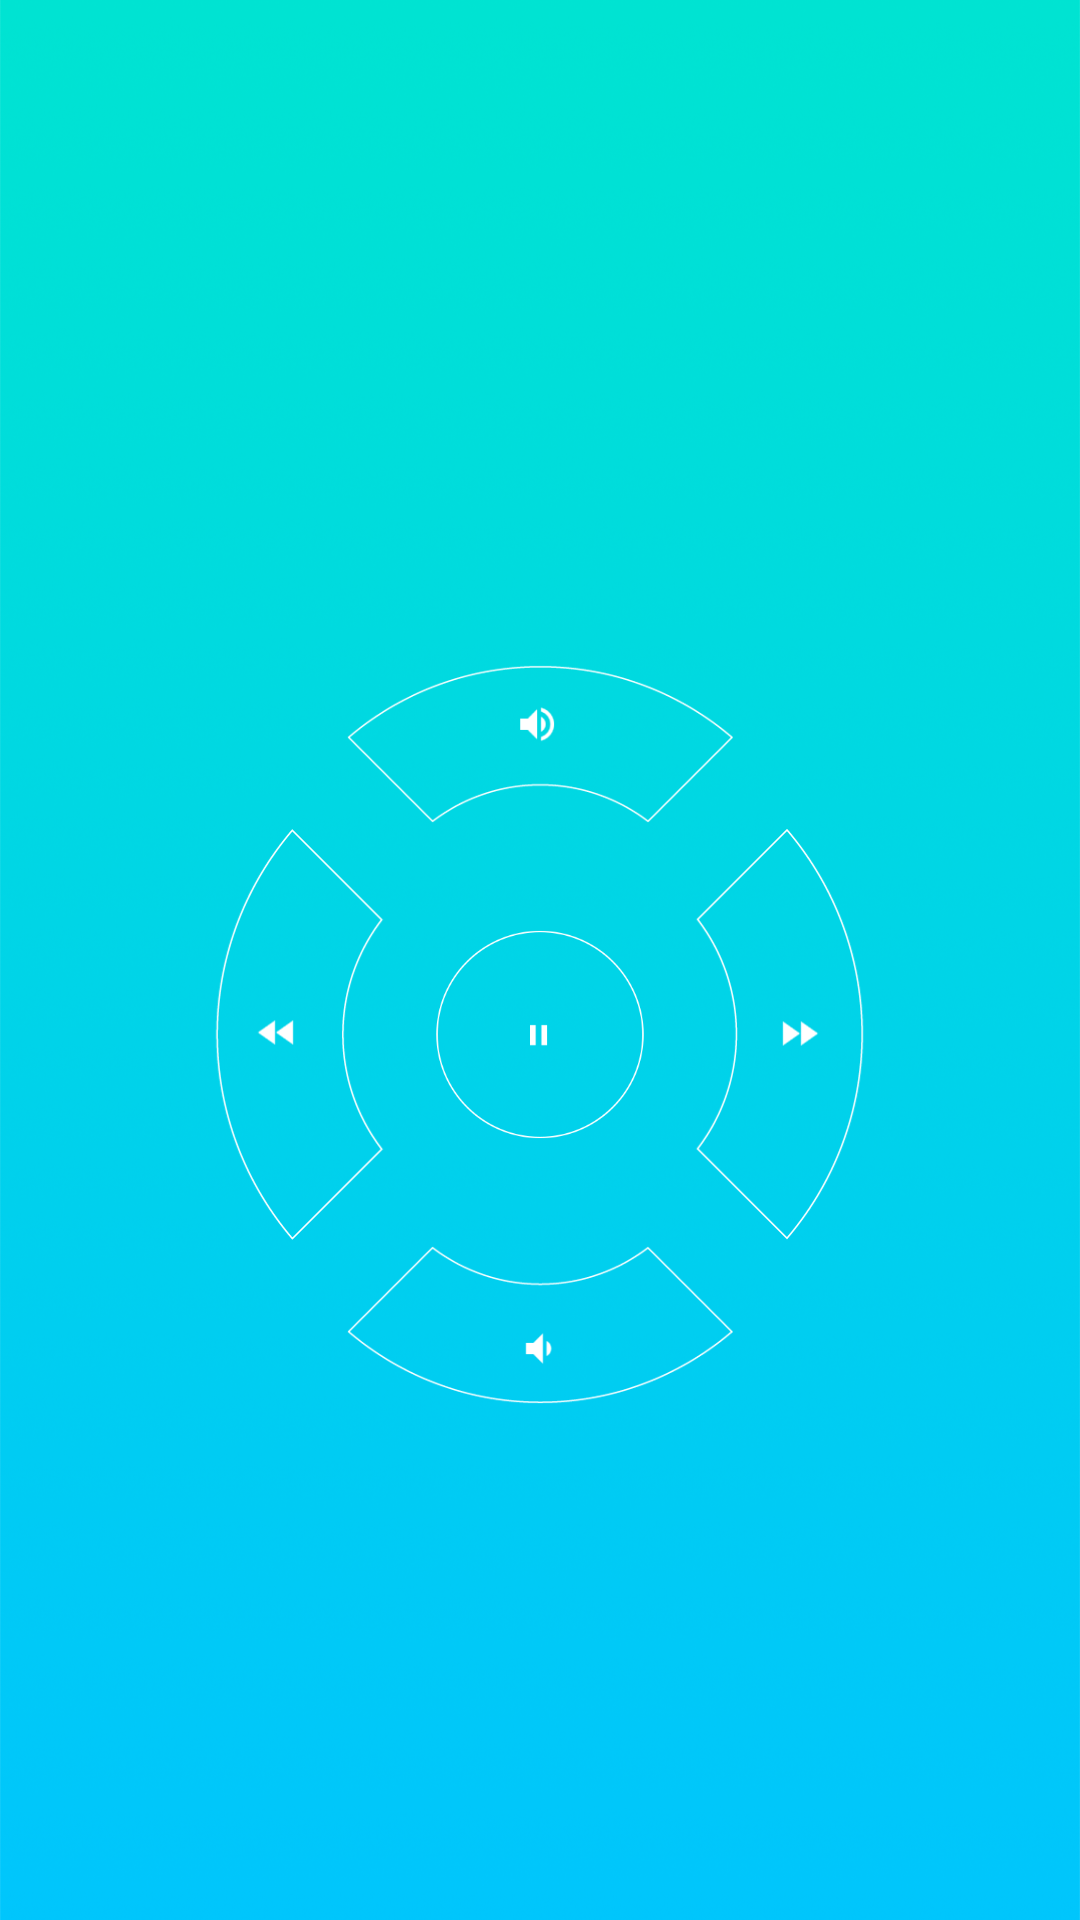

Icon bounding boxes for this 1080 × 1920 phone screenshot, format BBox(x1, y1, x2, y2):
pause: BBox(436, 931, 644, 1138)
